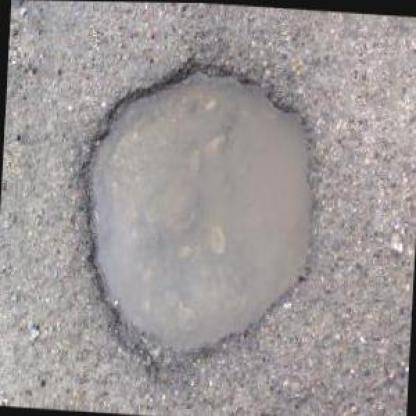pothole: (68, 47, 327, 386)
